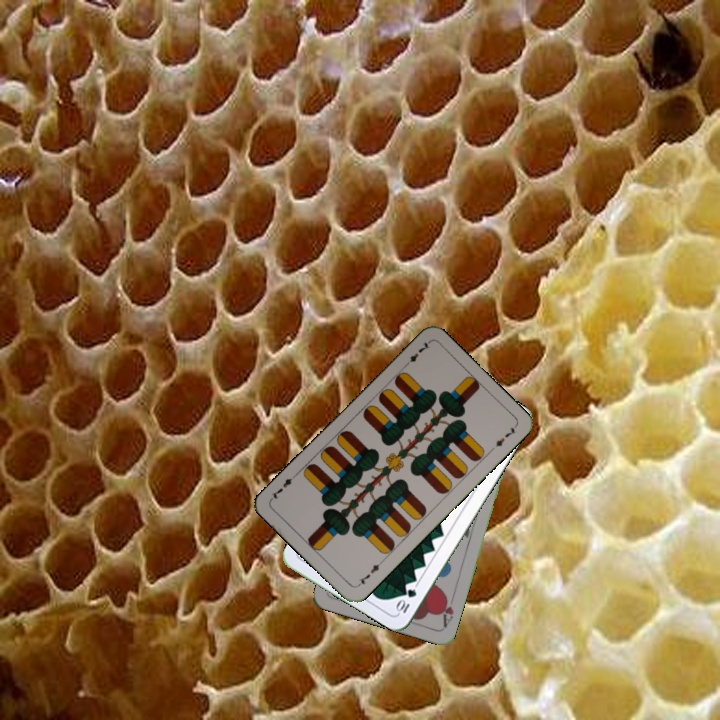E7: (354, 557, 386, 589), (401, 338, 432, 370)
G10: (392, 585, 419, 616)
HA: (436, 590, 457, 630)
